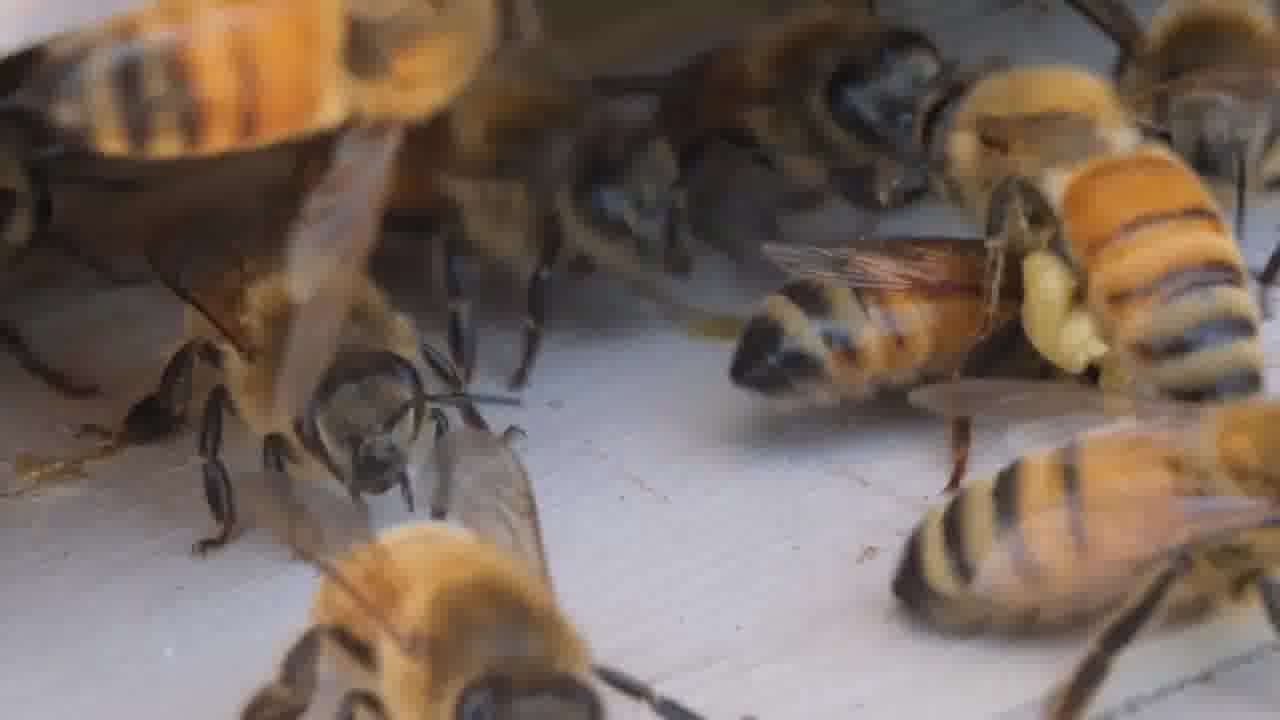pollen: (925, 48, 1269, 429)
